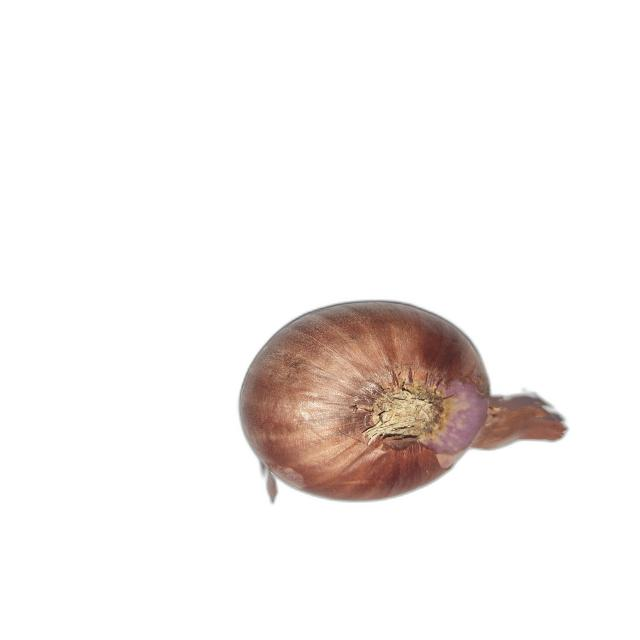onion: (237, 300, 570, 506)
